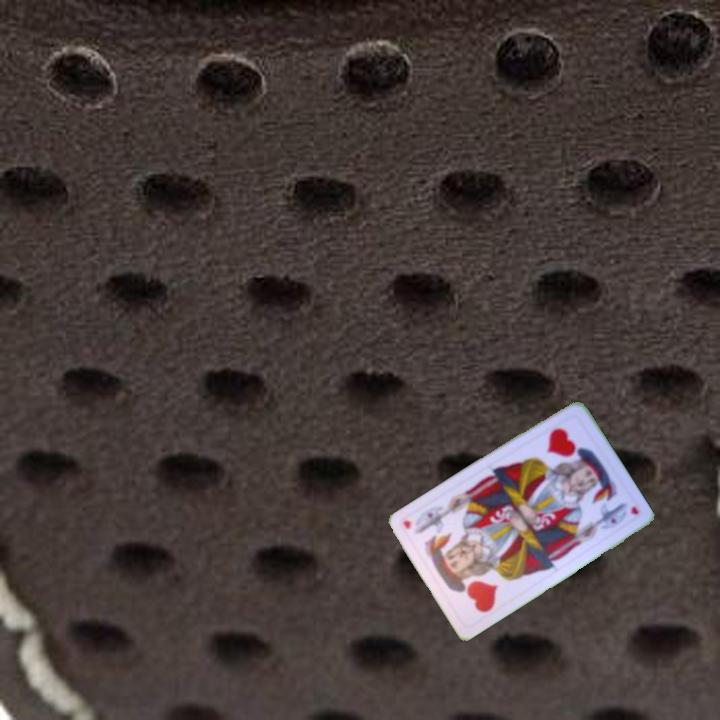h_j.png: (431, 543, 514, 629), (528, 410, 611, 495)
